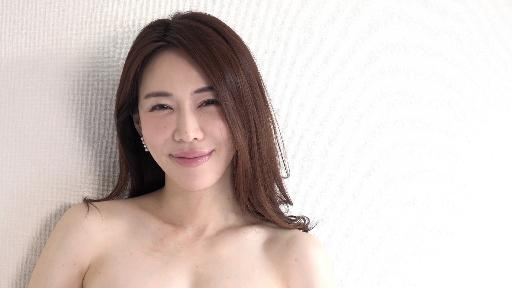left_eye: (199, 99, 218, 108)
left_lip_corner: (208, 149, 217, 155)
right_eye: (151, 104, 174, 112)
right_lip_corner: (169, 152, 176, 159)
